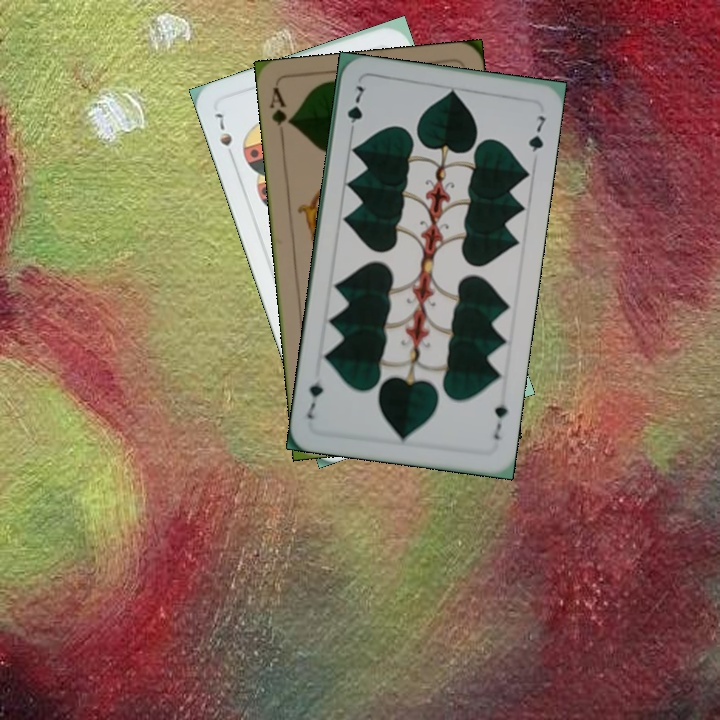G7: (343, 81, 367, 138), (489, 392, 510, 442)
GA: (265, 84, 295, 143)
S7: (210, 108, 238, 164)
